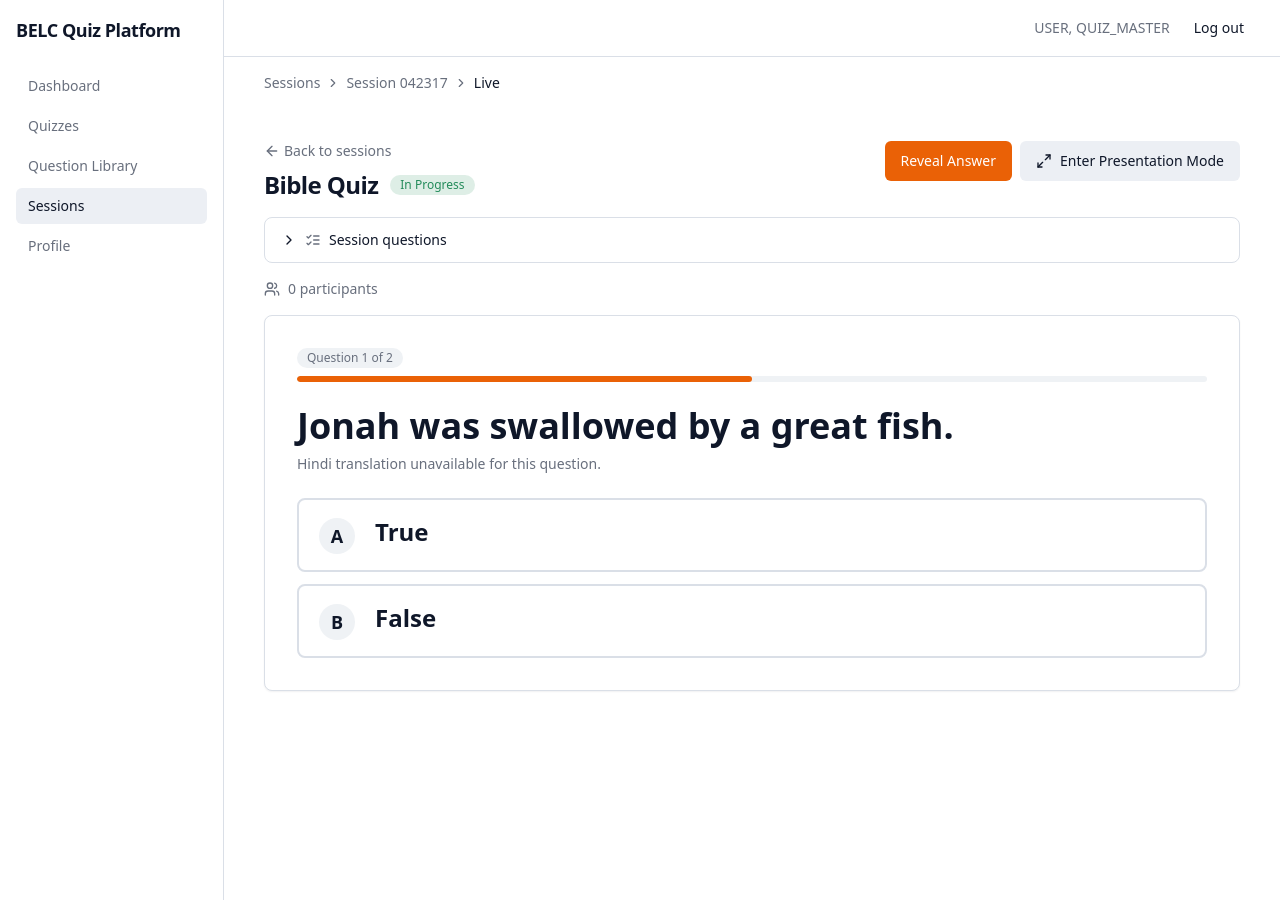
Test case: SessionLivePage › converges on a stale-version conflict too, and does not retry
Click the button "Reveal Answer".
click(948, 161)  # box [885,141,1012,181]
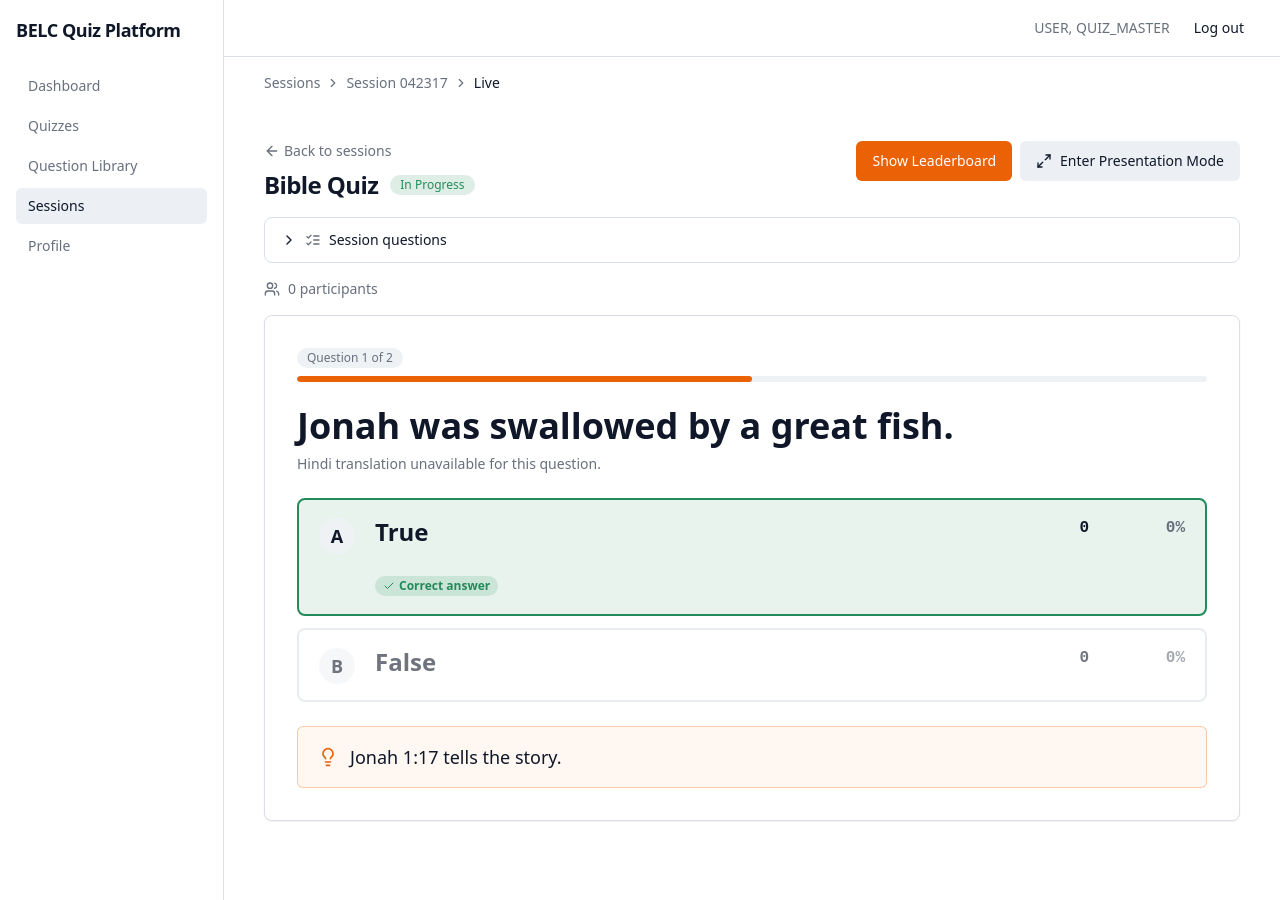
expect the text "Correct answer" is shown: met, box [375,576,498,596]
